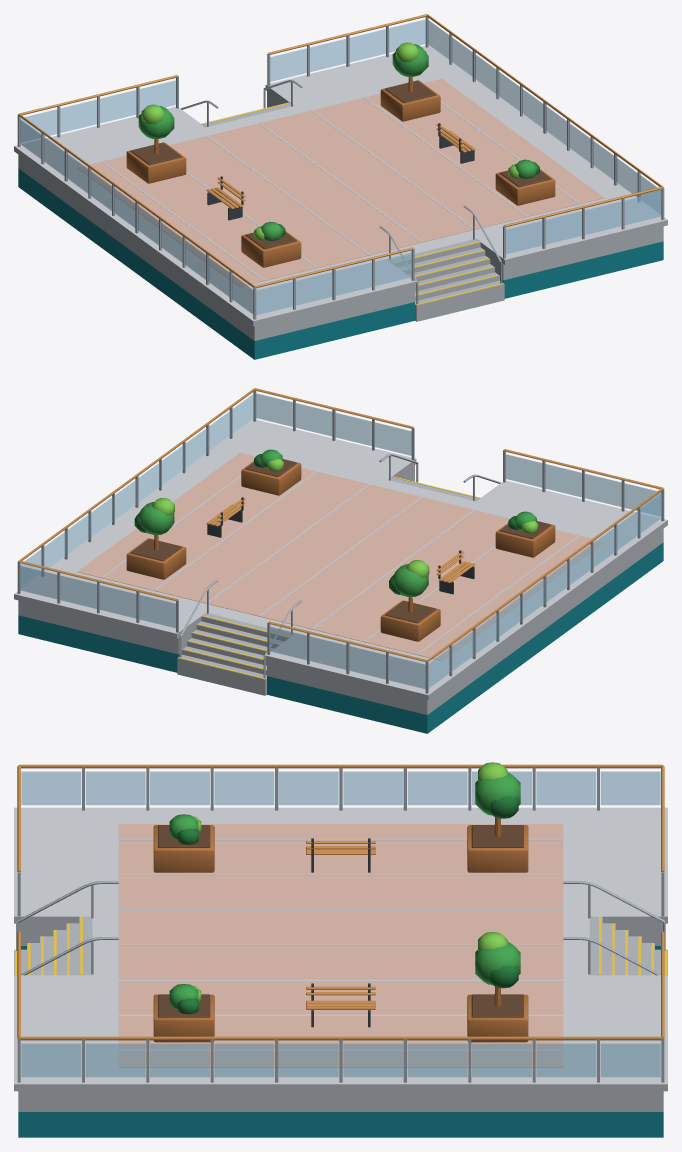
File: plataforma_elevada.glb
The picture shows the model from 3 angles, top to bottom: view 1: azimuth 30°, elevation 25°; view 2: azimuth 150°, elevation 25°; view 3: azimuth 270°, elevation 25°; orthographic projection. The views are drawn at different scales.
Parts seen in each view (by area): view 1: plataforma_elevada; view 2: plataforma_elevada; view 3: plataforma_elevada.
Part boxes in pixels (bbox=[...]): plataforma_elevada: bbox=[14, 14, 667, 359]; plataforma_elevada: bbox=[14, 388, 667, 733]; plataforma_elevada: bbox=[14, 762, 667, 1137].
Size of the model in its own units: 15 by 3.76 by 15.
2 materials, 1 textured.
